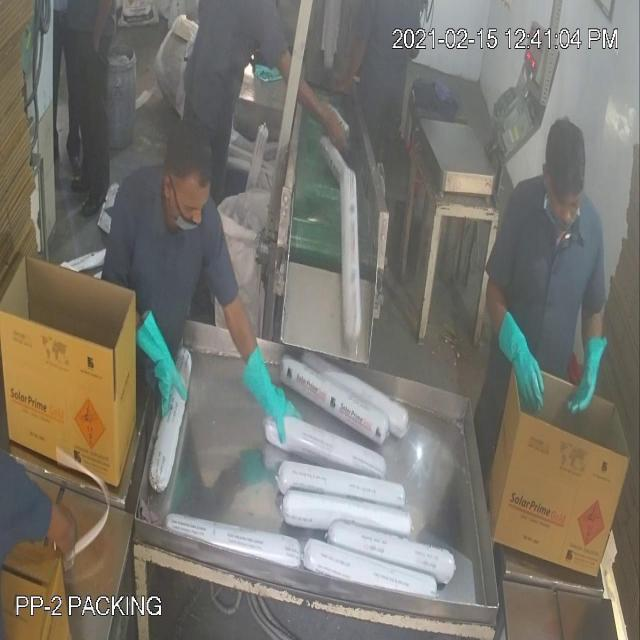No_Gloves: (35, 62, 590, 515)
